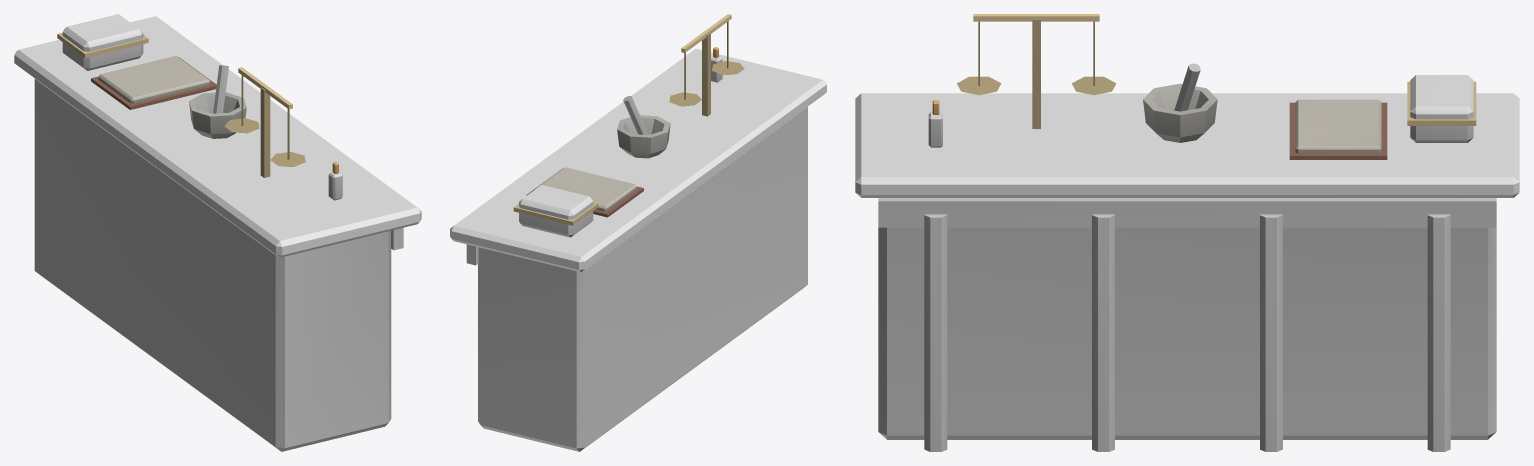
The model's file is apothecary_counter.glb.
The picture shows the model from 3 angles, left to right: view 1: azimuth 30°, elevation 25°; view 2: azimuth 150°, elevation 25°; view 3: azimuth 270°, elevation 25°; orthographic projection. The views are drawn at different scales.
Visible parts, largest first — view 1: book_cover; view 2: book_cover; view 3: book_cover.
Boxes of the visible parts, bbox=[...] form: book_cover: bbox=[14, 14, 421, 451]; book_cover: bbox=[450, 14, 826, 451]; book_cover: bbox=[855, 14, 1519, 451].
Bounding box in the file's own units: 0.73 × 1.49 × 2.31.
